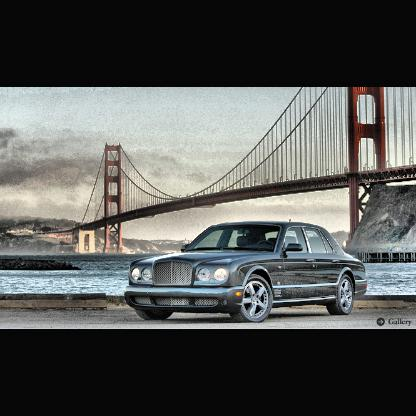Bentley Arnage Sedan 2009: (125, 220, 369, 322)
